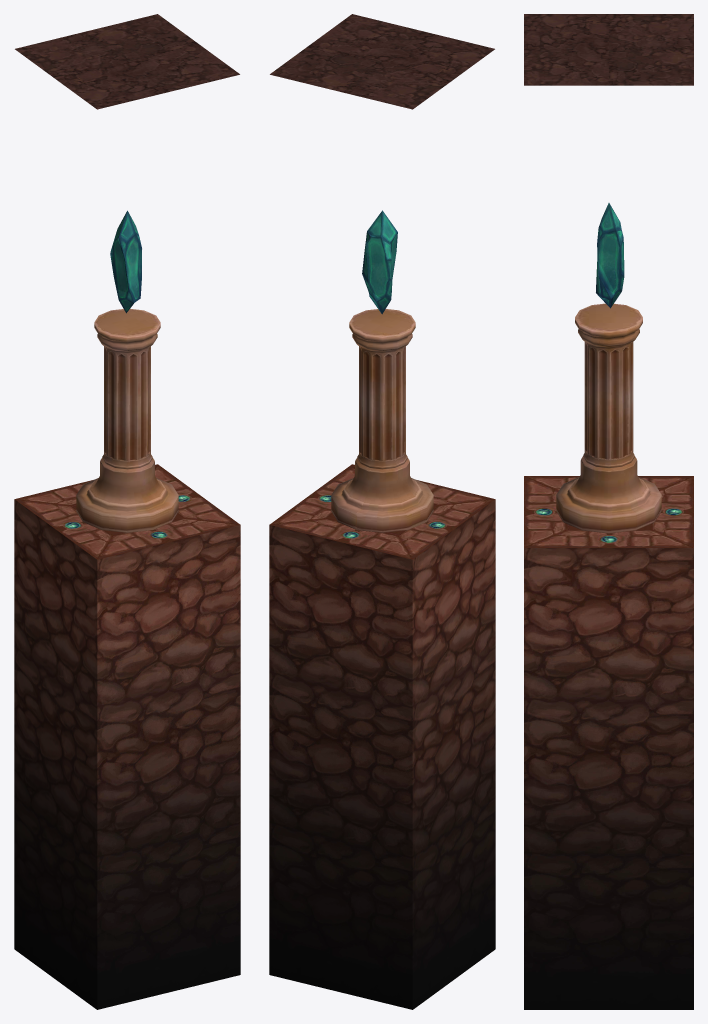
Rendered from Trigger_Pillar.obj.
The picture shows the model from 3 angles, left to right: view 1: azimuth 30°, elevation 25°; view 2: azimuth 150°, elevation 25°; view 3: azimuth 270°, elevation 25°; orthographic projection. The views are drawn at different scales.
Parts seen in each view (by area): view 1: Floor_Obj_Test:pPlane10, Column_Trigger:pCube2 polySurface3, polySurface2 Column_Trigger:pCube2, Column_Trigger:pCube2 polySurface4; view 2: Floor_Obj_Test:pPlane10, Column_Trigger:pCube2 polySurface3, polySurface2 Column_Trigger:pCube2, Column_Trigger:pCube2 polySurface4; view 3: Floor_Obj_Test:pPlane10, Column_Trigger:pCube2 polySurface3, polySurface2 Column_Trigger:pCube2, Column_Trigger:pCube2 polySurface4.
Boxes of the visible parts, x1,y1,x2,y2 form: Floor_Obj_Test:pPlane10: [14, 14, 240, 1009]; Column_Trigger:pCube2 polySurface3: [76, 309, 178, 532]; polySurface2 Column_Trigger:pCube2: [14, 464, 240, 559]; Column_Trigger:pCube2 polySurface4: [110, 210, 141, 313]; Floor_Obj_Test:pPlane10: [269, 14, 495, 1009]; Column_Trigger:pCube2 polySurface3: [331, 309, 433, 532]; polySurface2 Column_Trigger:pCube2: [269, 464, 495, 559]; Column_Trigger:pCube2 polySurface4: [362, 210, 397, 314]; Floor_Obj_Test:pPlane10: [524, 14, 693, 1009]; Column_Trigger:pCube2 polySurface3: [556, 303, 661, 533]; polySurface2 Column_Trigger:pCube2: [524, 476, 693, 547]; Column_Trigger:pCube2 polySurface4: [596, 203, 624, 308].
Bounding box in the file's own units: 2 × 12 × 2.
Materials: 6 (6 with a texture image).
